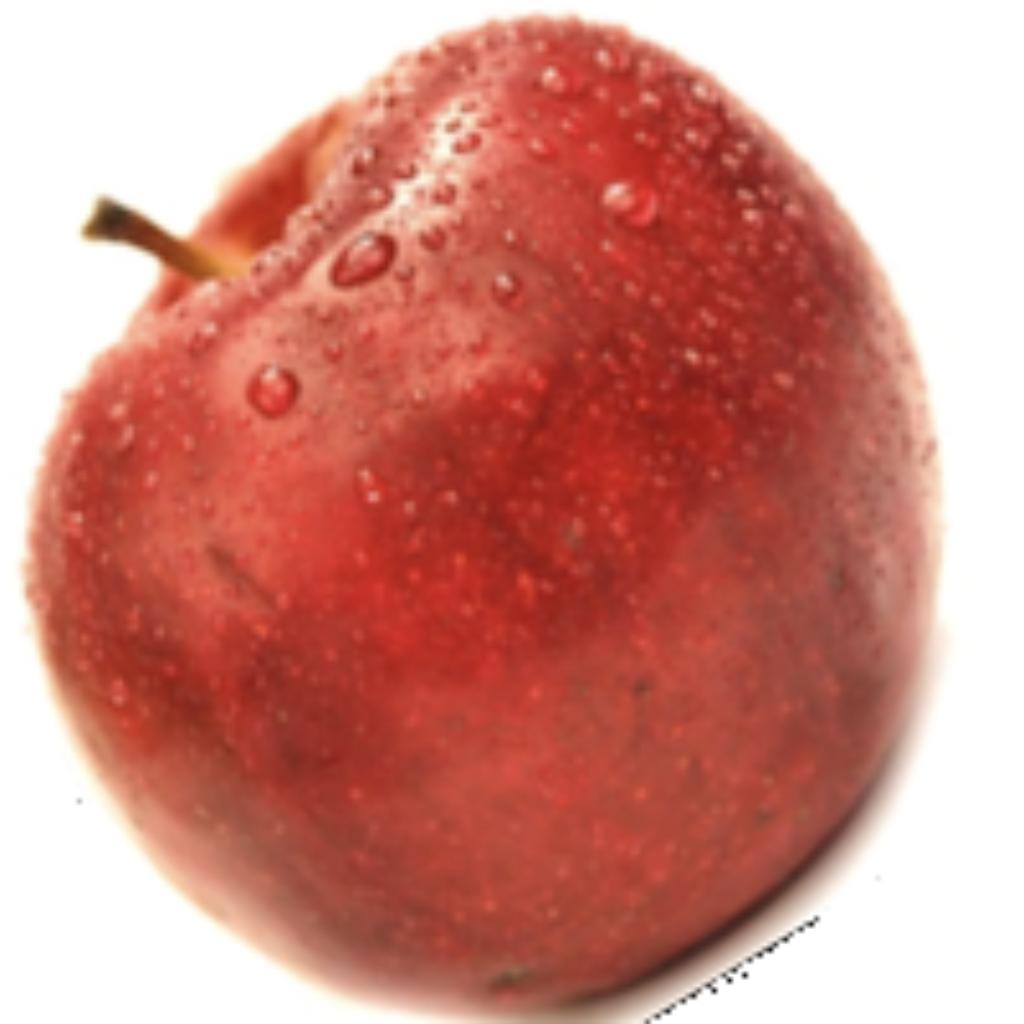apple: (10, 5, 952, 1019)
